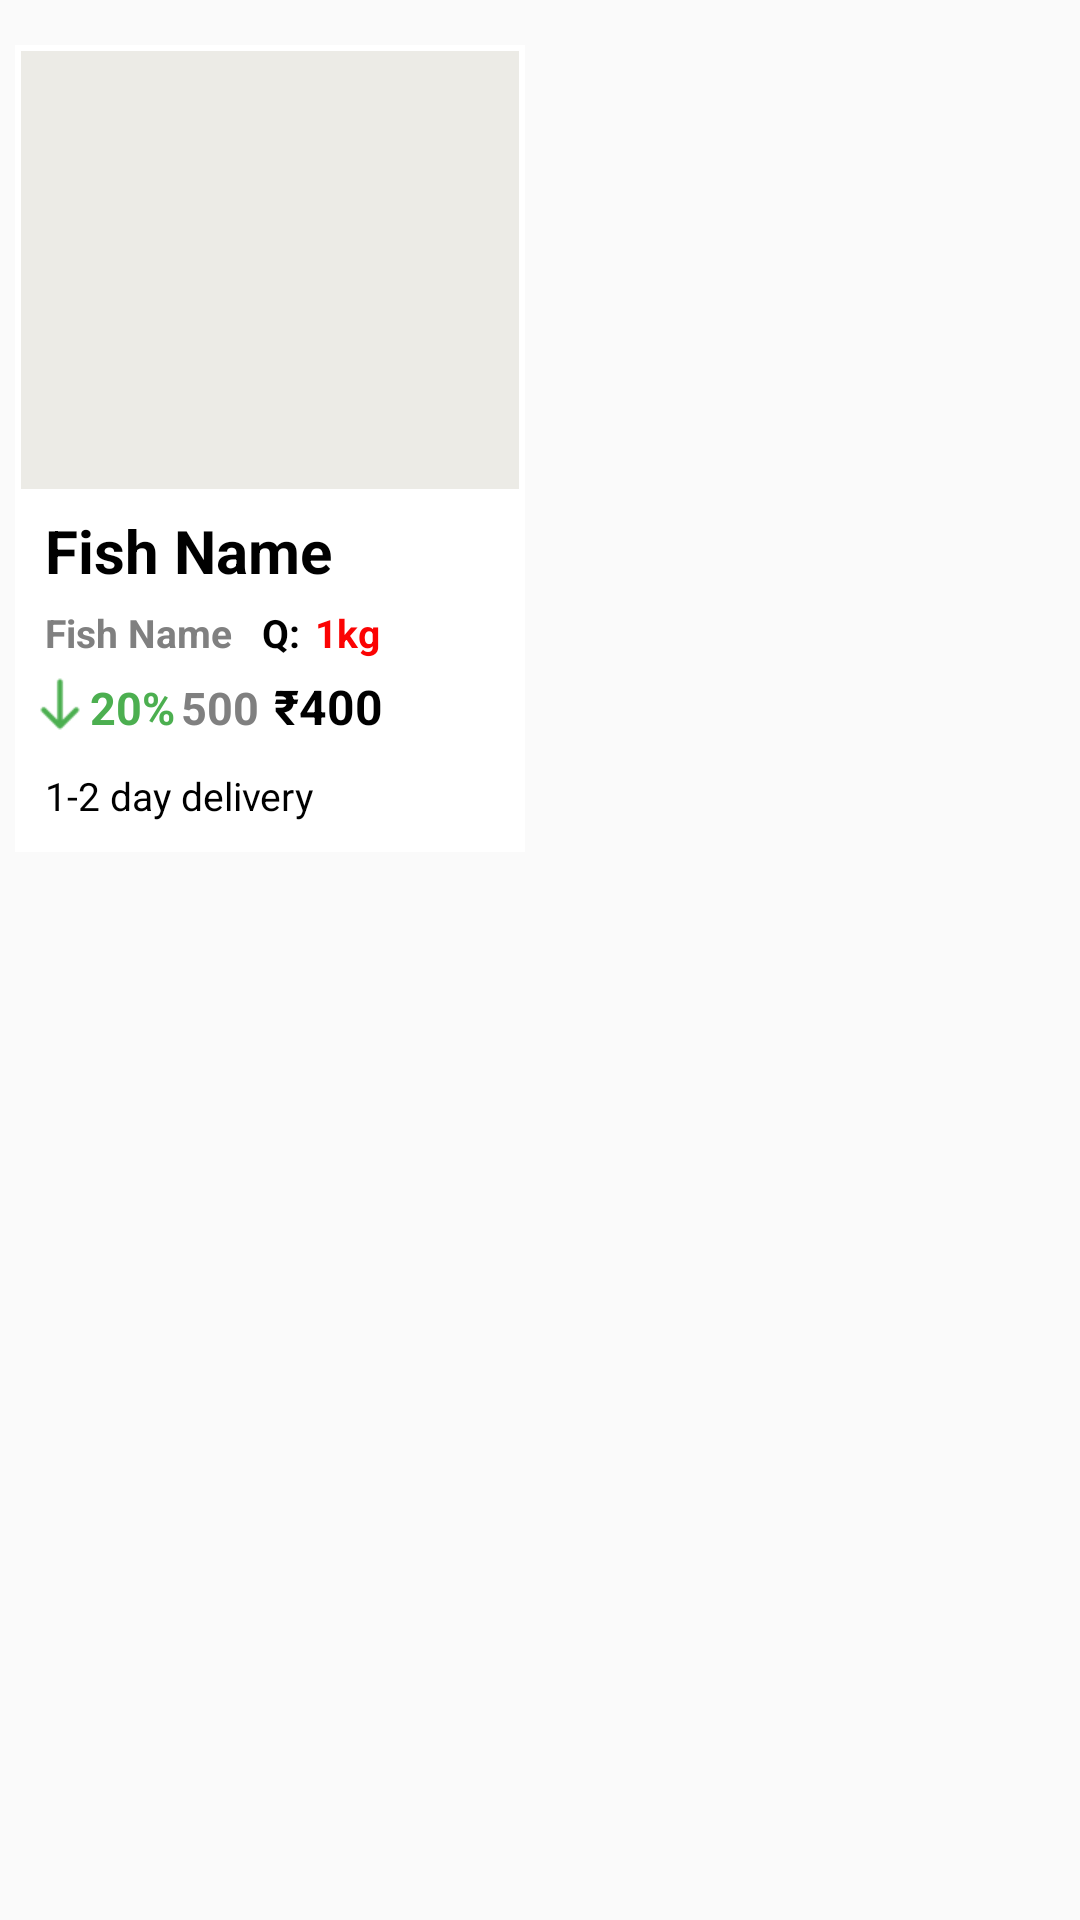

Icons on this 1080x1920 Android screen, each with its box as (x1, y1, x2, y2):
downarrow: (40, 678, 80, 730)
